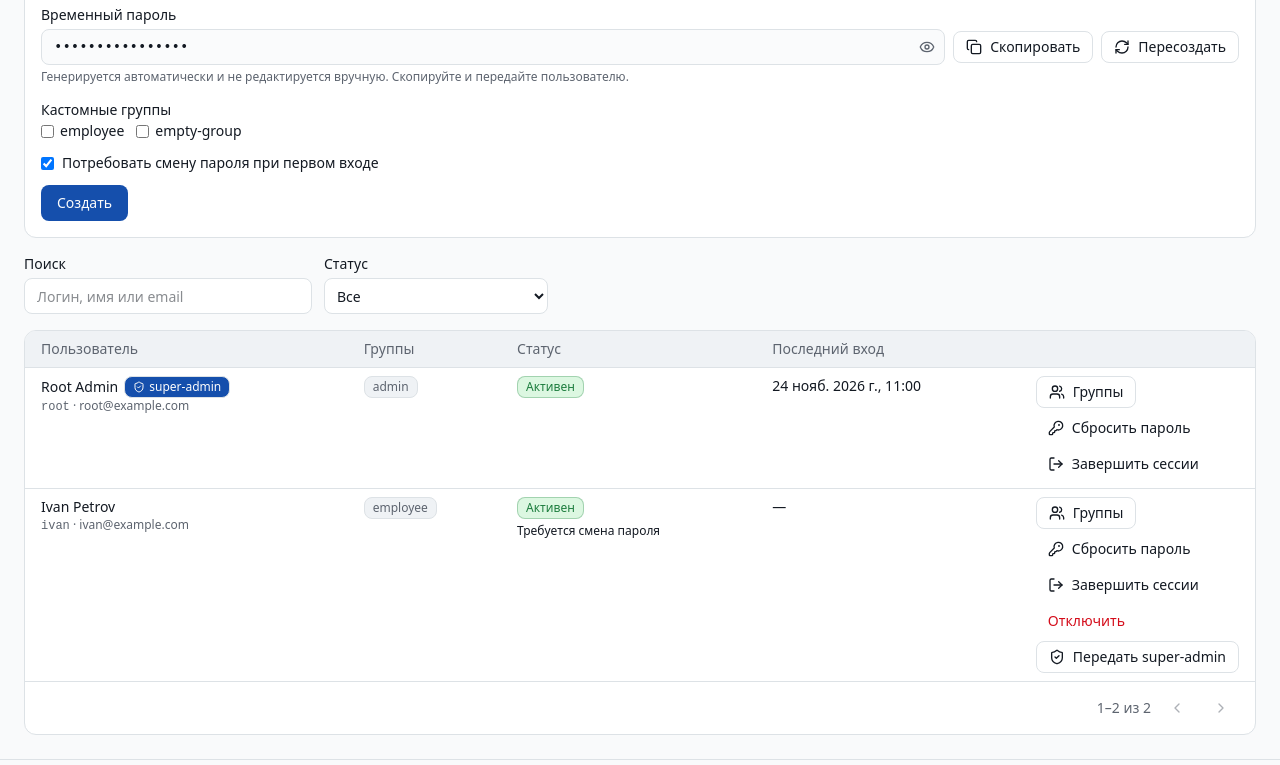
Test: role-based UI screens › manages users, revokes sessions, and displays the security audit log tab
(page scrolled)
Check: the text "Ivan Petrov" is shown, box 41,497 -> 115,517
Check: the button "Передать super-admin" is shown, box 1036,641 -> 1239,673
Click the 2nd button "Завершить сессии" at coordinates (1123, 585), box 1036,569 -> 1211,601
(page scrolled)
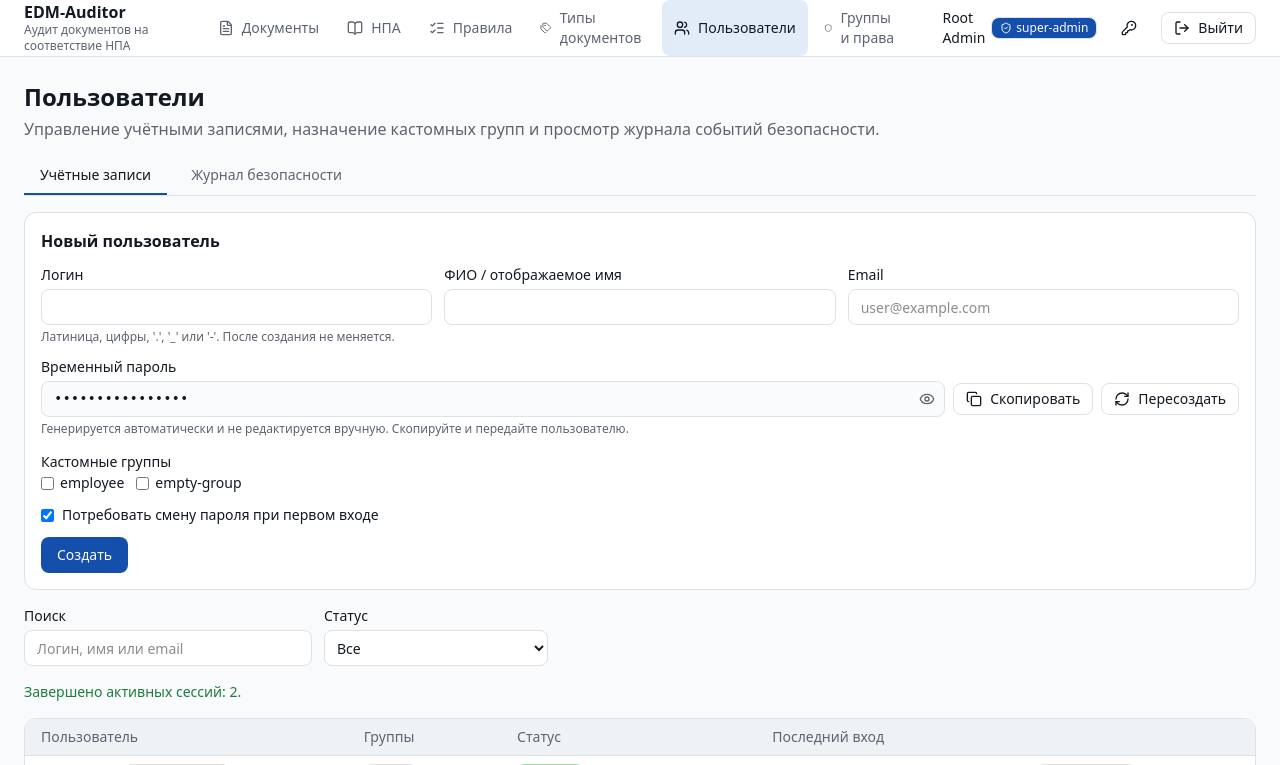
Check: the text "Завершено активных сессий: 2." is shown, box 24,682 -> 241,701
// Switch to Security Audit Log tab.
Click the tab "Журнал безопасности" at coordinates (267, 176), box 175,157 -> 358,195
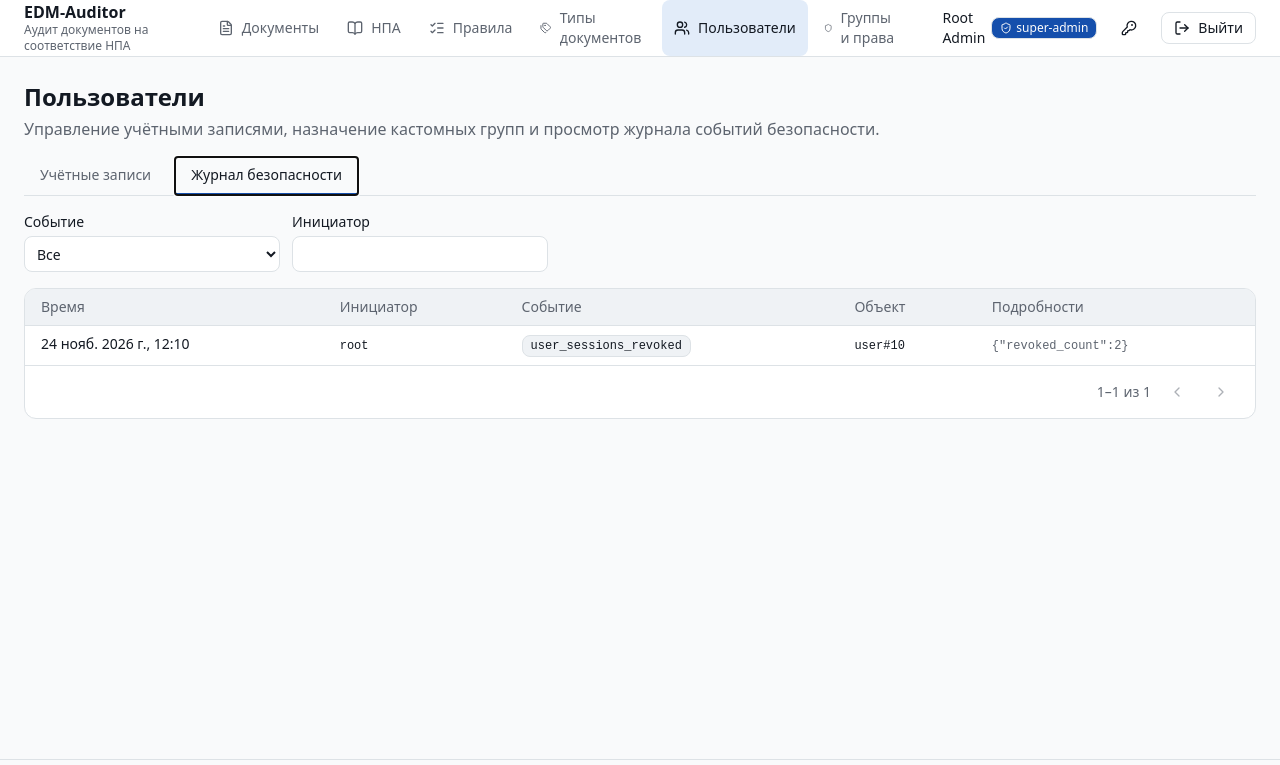
Check: the cell "user_sessions_revoked" is shown, box 506,326 -> 838,365
